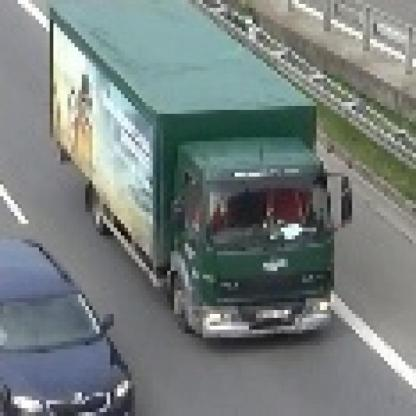truck: (47, 1, 349, 338)
